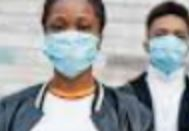with_facemask: (43, 31, 95, 72), (149, 37, 186, 71)
